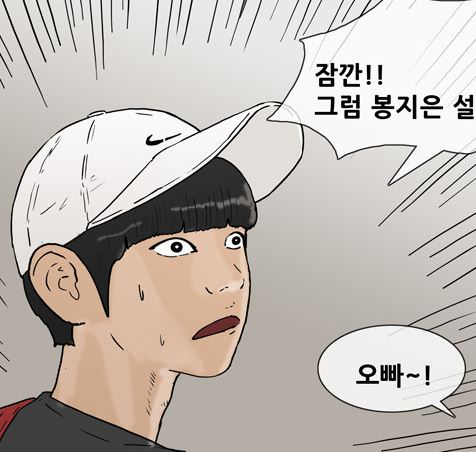hat: (9, 95, 306, 276)
